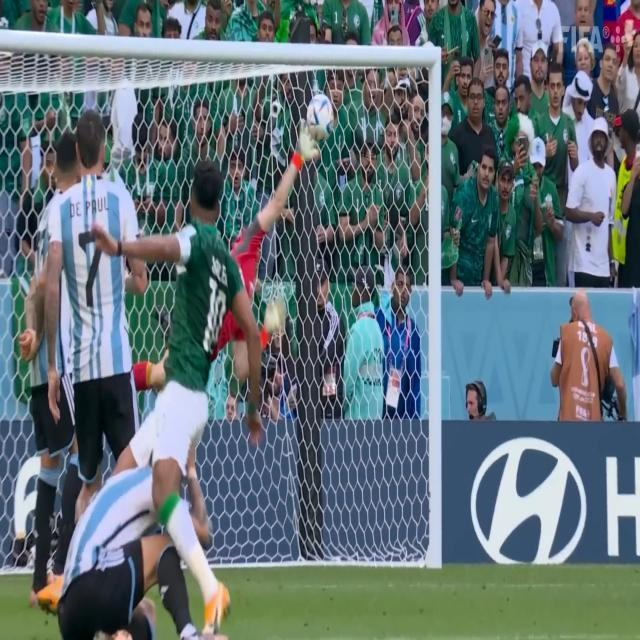football: (296, 88, 348, 139)
